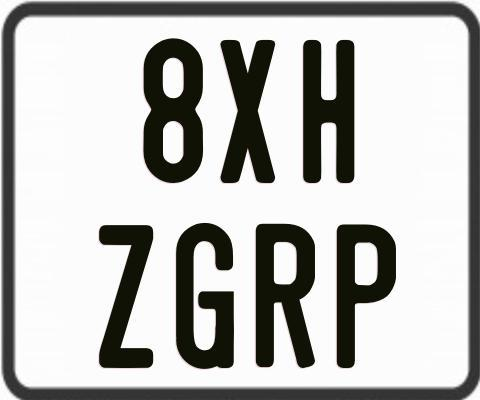8: (141, 37, 207, 183)
G: (174, 222, 234, 374)
H: (301, 39, 354, 185)
P: (335, 225, 398, 374)
R: (256, 222, 318, 372)
X: (217, 40, 276, 187)
Z: (97, 225, 157, 368)
